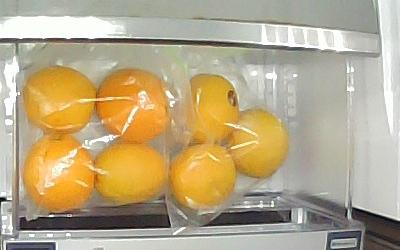orange_vinyl: (98, 67, 173, 144), (24, 134, 95, 212), (23, 66, 96, 134), (94, 142, 168, 204), (169, 145, 236, 211), (227, 108, 287, 180), (186, 73, 239, 146)
